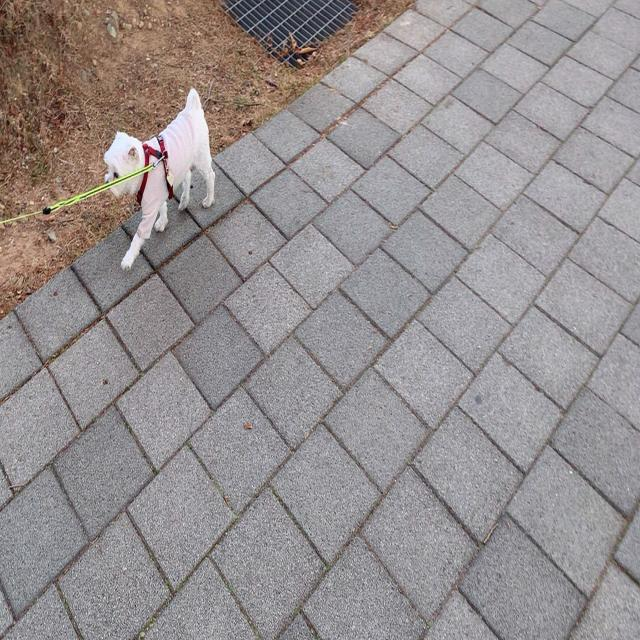Dog: (104, 86, 216, 273)
